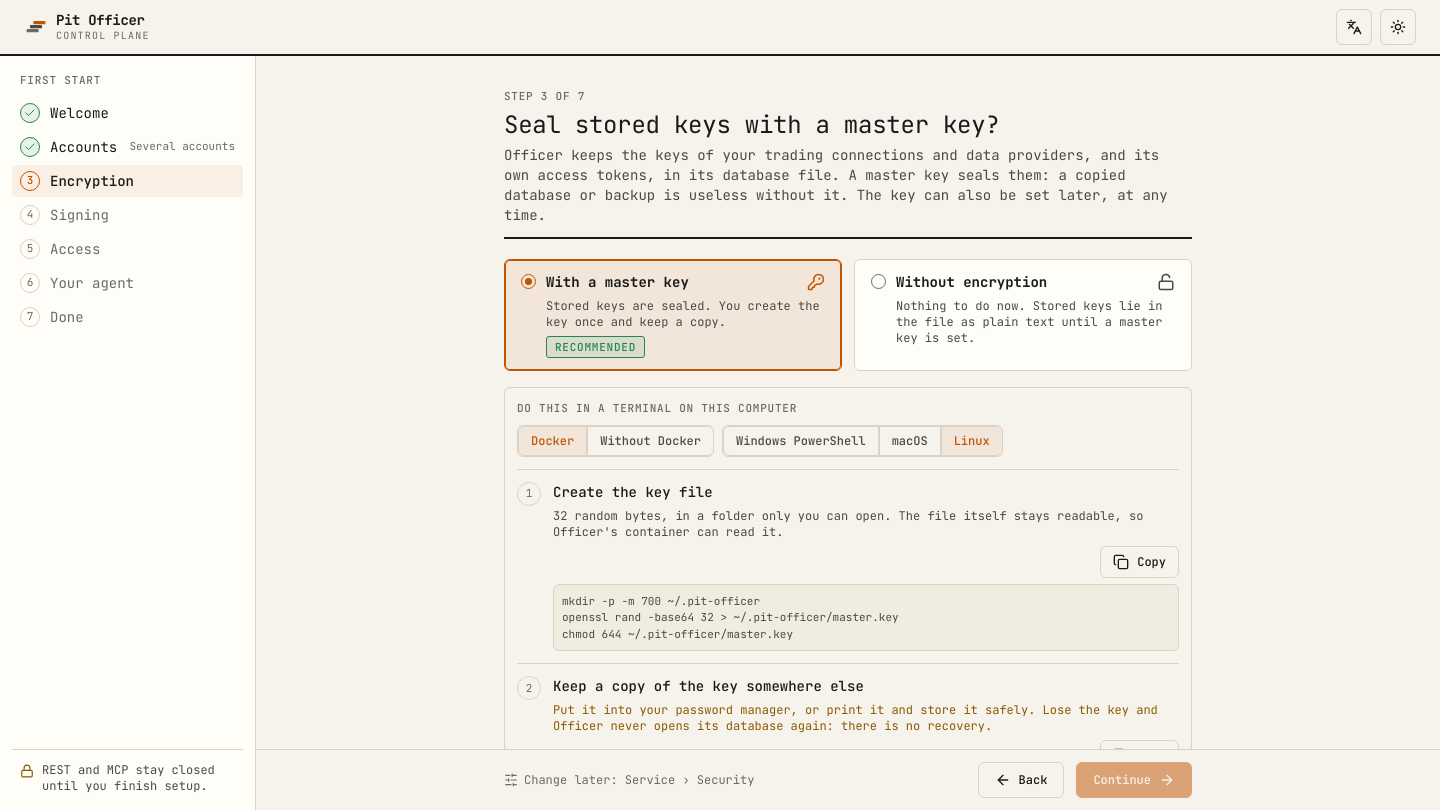
Setup › encryption › stays at the encryption step when the decline fails
The image size is (1440, 810).
Click the radio button labelled "Without encryption". click: (1023, 315)
box: [854,258,1192,371]
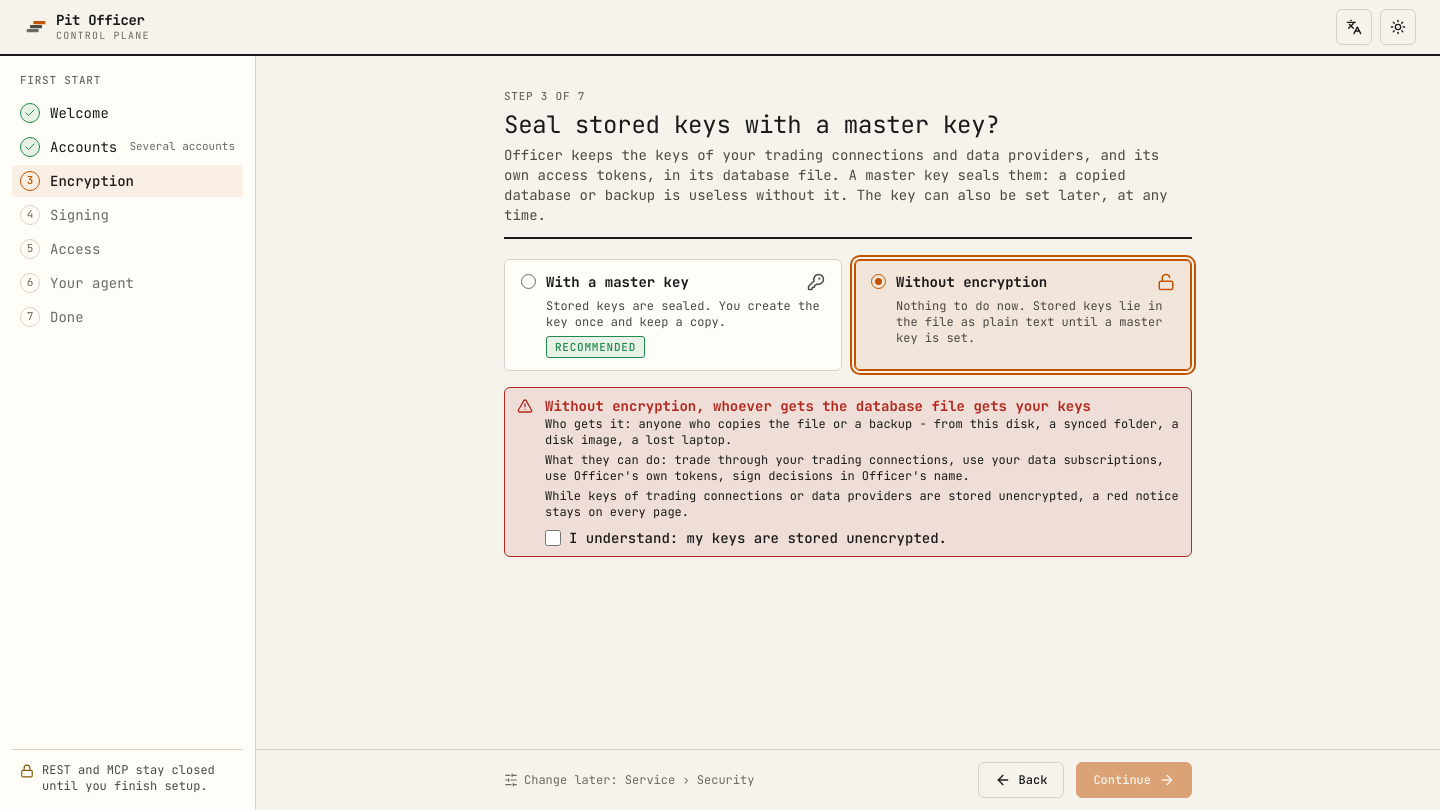
Click the checkbox labelled "I understand: my keys are stored unencrypted.". click: (553, 538)
box: [545,530,561,546]
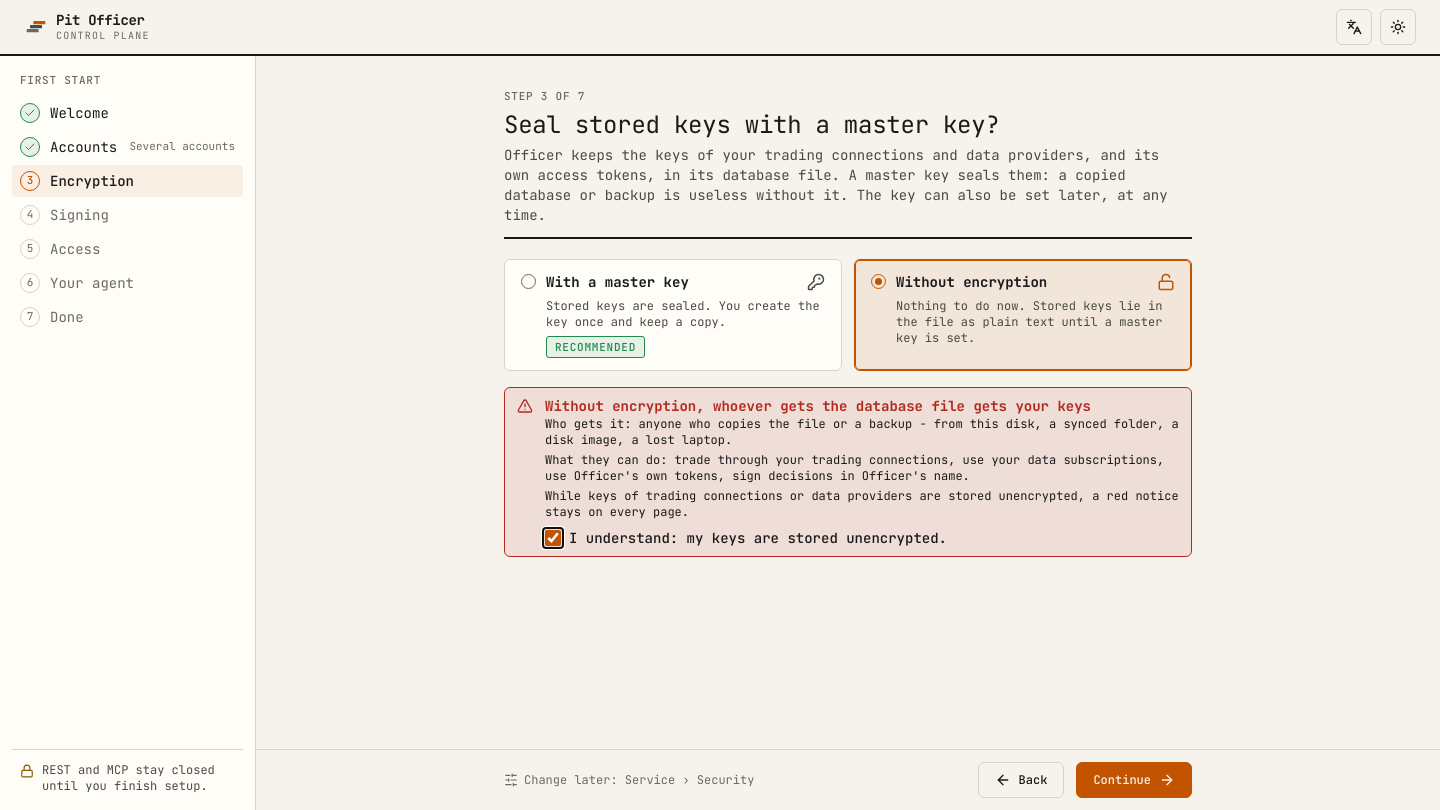
Click the button "Continue". click: (1134, 780)
box: [1076,762,1192,798]
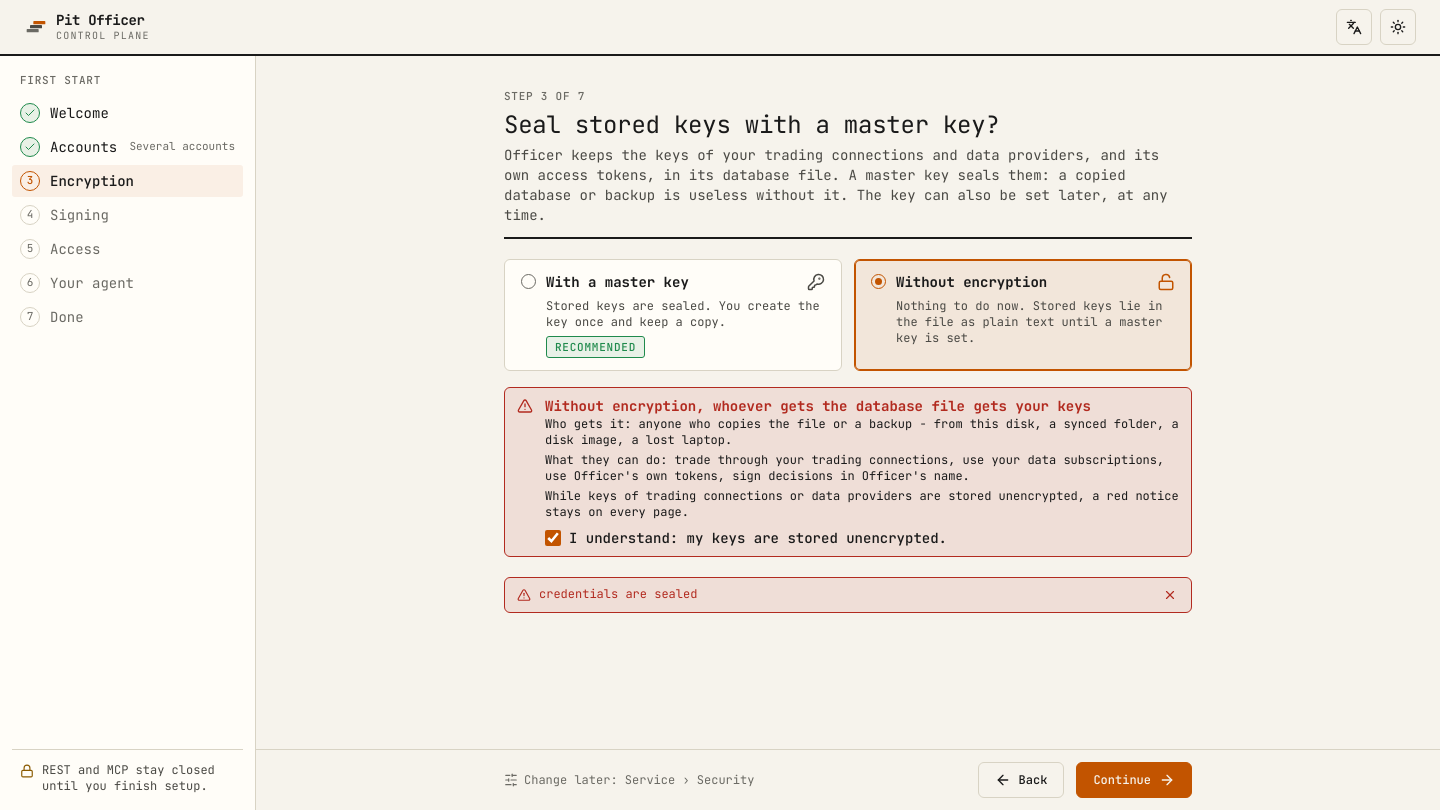
expect the heading "Seal stored keys with a master key?" is shown: met, box [504,108,1000,140]
expect the message reads "credentials are sealed": met, box [539,586,697,602]
